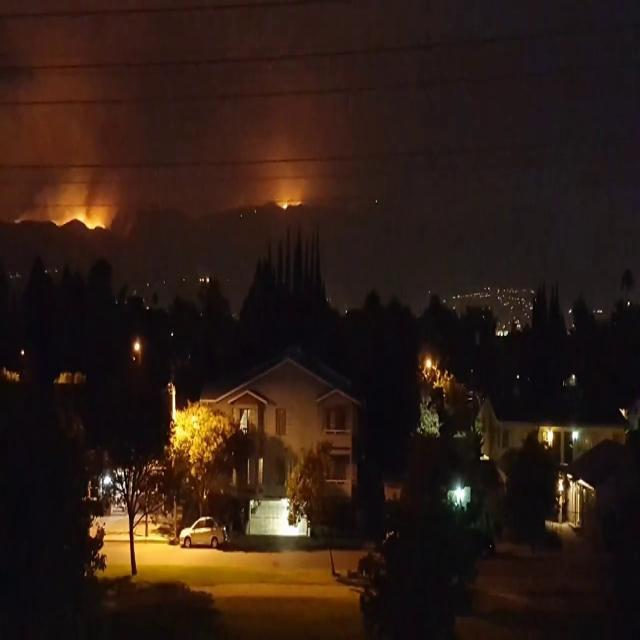Fire: (272, 180, 309, 220), (51, 212, 106, 234)
